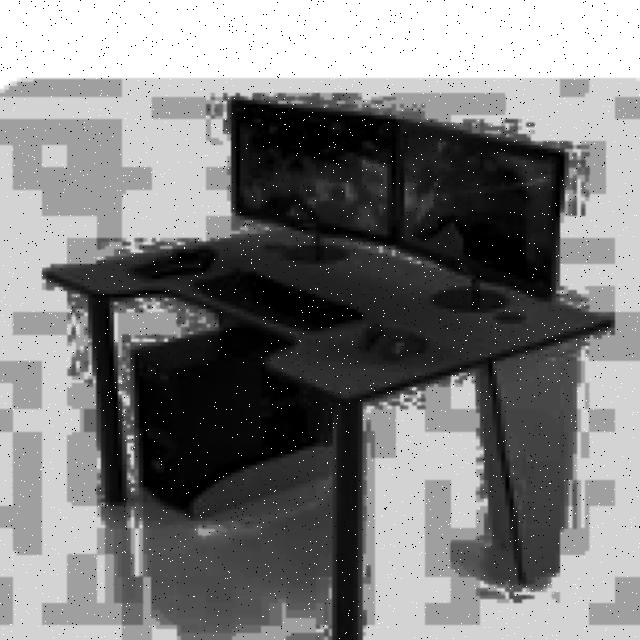table: (46, 223, 619, 640)
